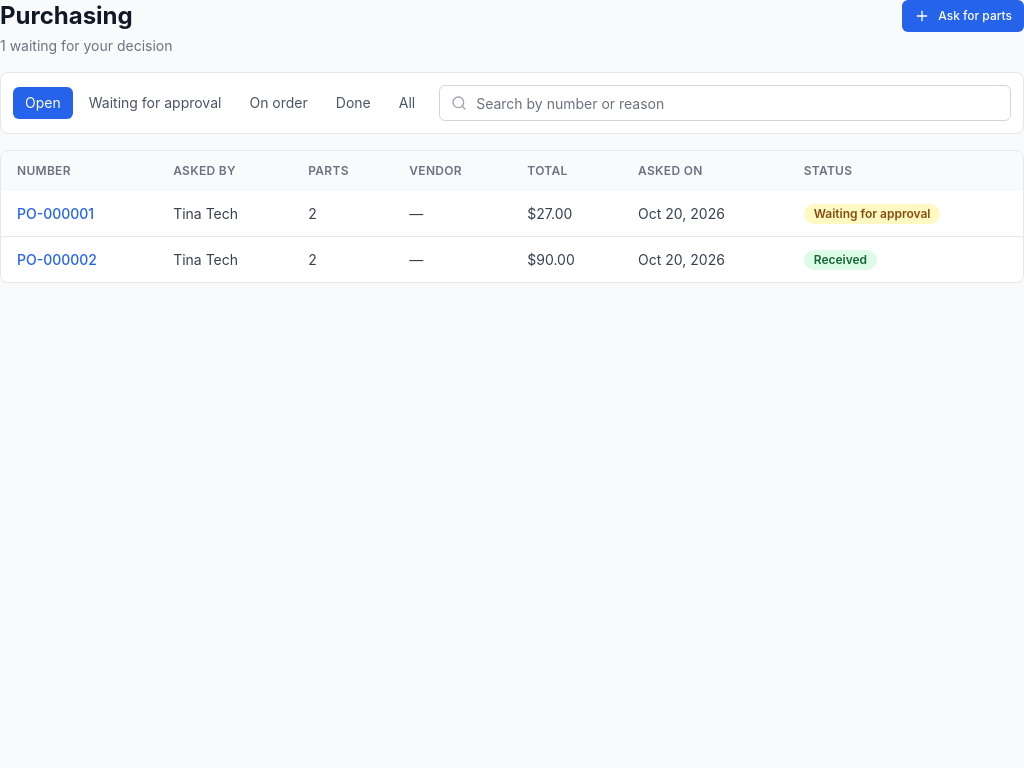
Scenario: PurchasingPage › offers a technician nothing on a colleague’s request or one already approved
This screenshot has width=1024, height=768.
Click the button "PO-000001" at (56, 214), box [17,204,94,224]
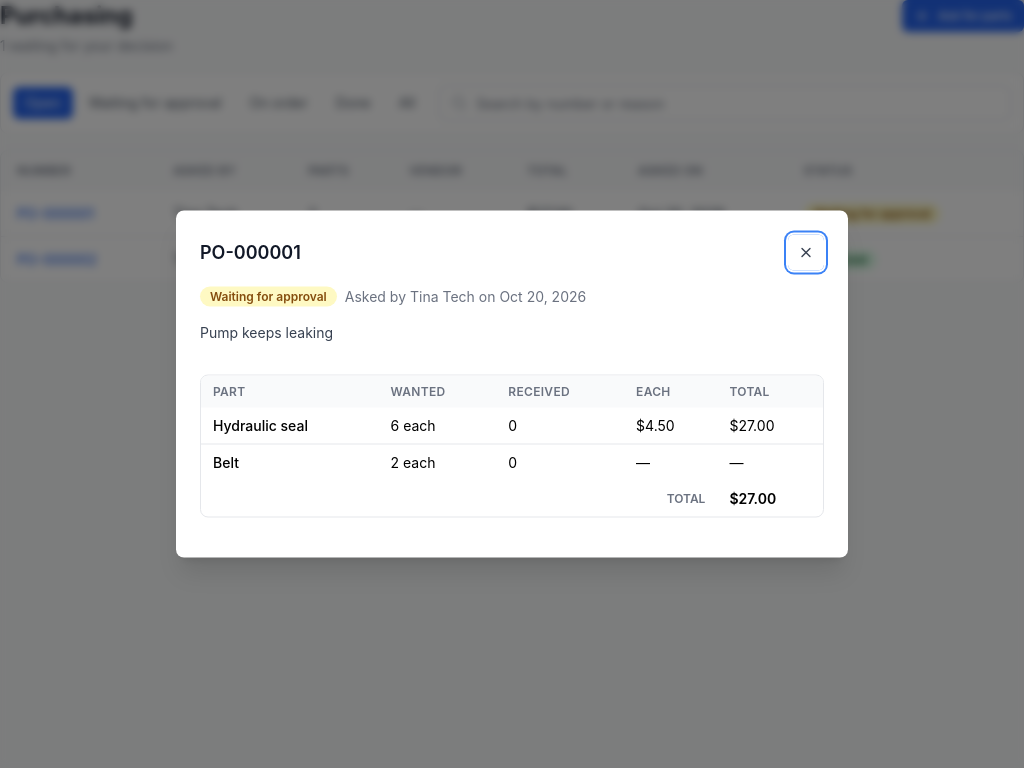
expect the text "Hydraulic seal" is shown: met, box [201,408,378,444]
